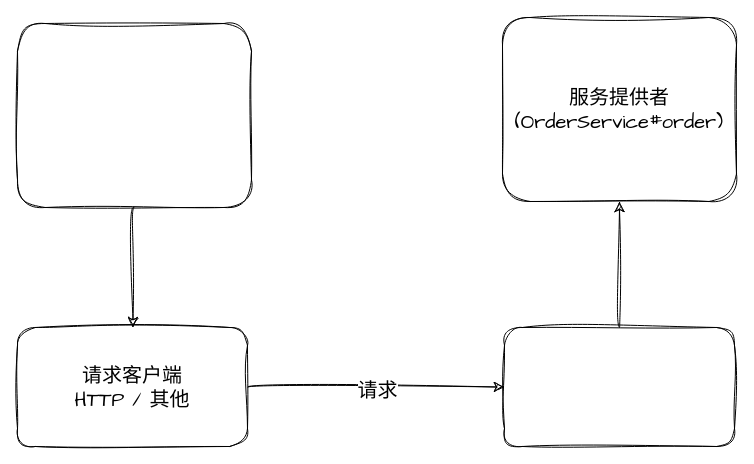
Some shapes in this 754 by 464 pixel diagram are drawn without their labels. Here are the shapes that lost their labels. From the top down, the centre of each, then its label:
At (134,115): "服务消费者".
At (619,386): "Web Server (rpc.com/order)".
